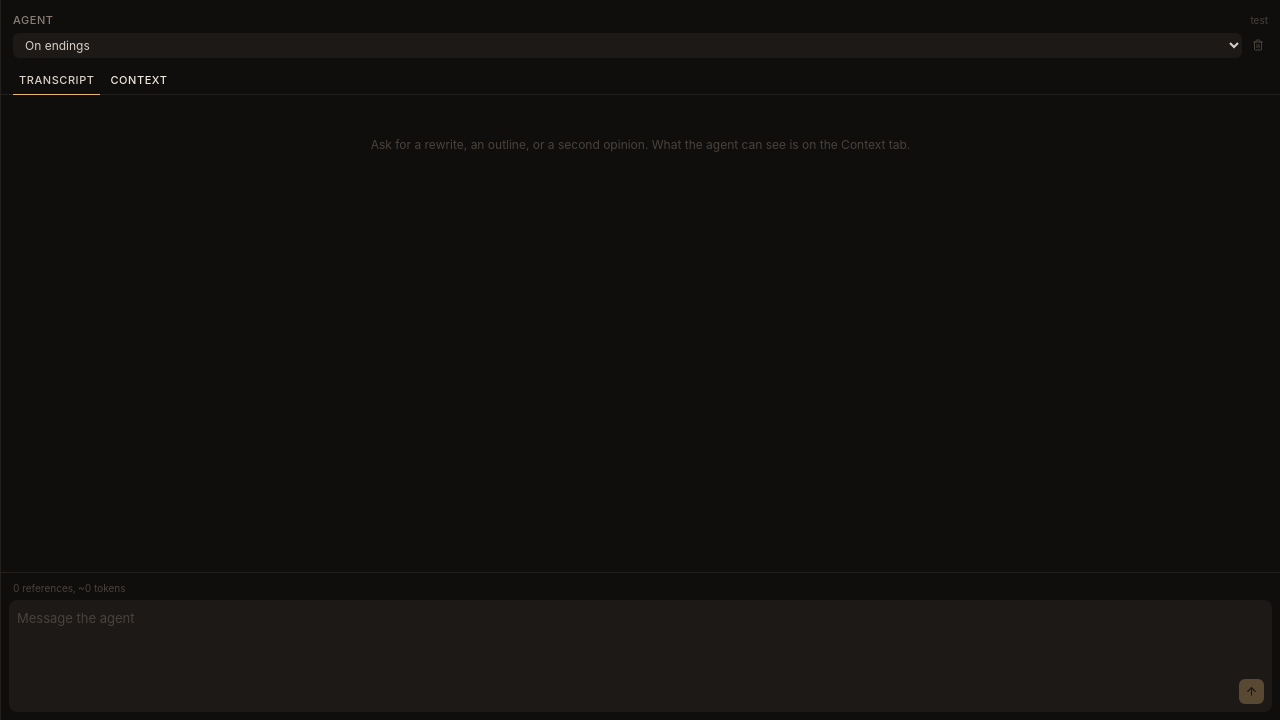
Test: a refused reply › should show the reason and offer nothing to accept
Type "Tighten this" into the text box labelled "Message the agent".
click(624, 656); type("Tighten this")  # box [17,608,1231,704]
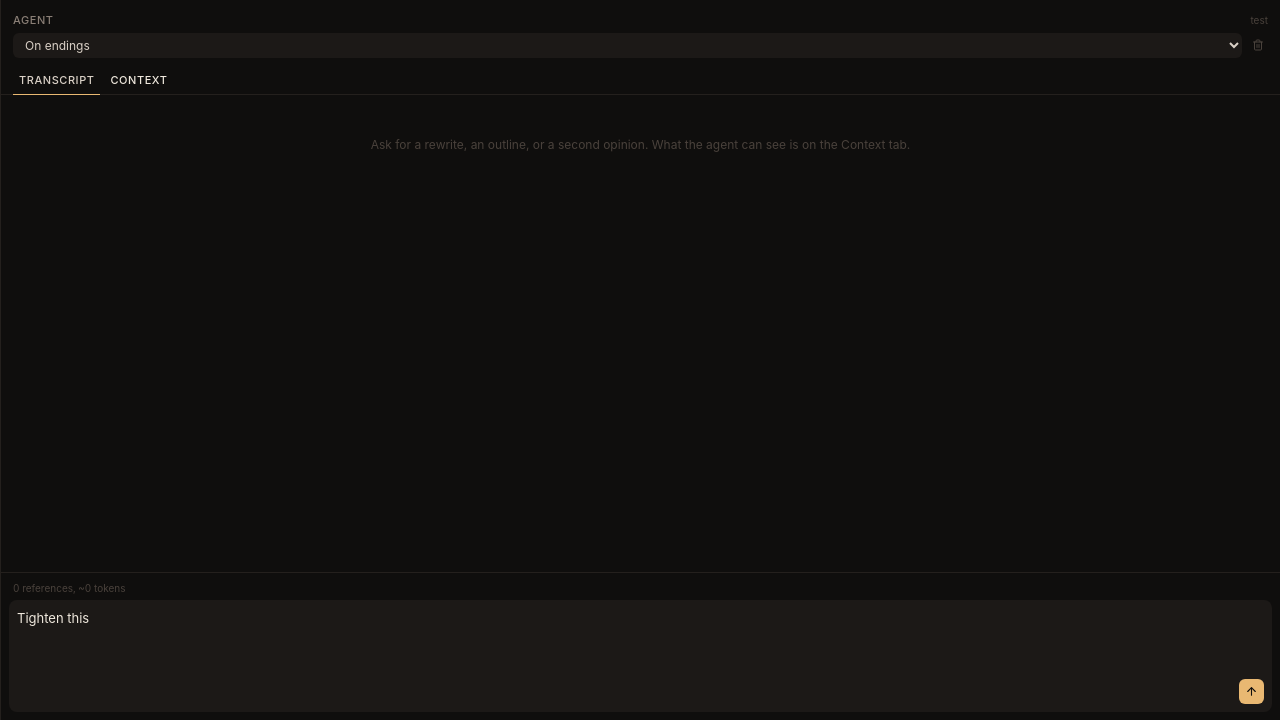
Click the button named "Send message".
click(1252, 692)  # box [1239,679,1264,704]
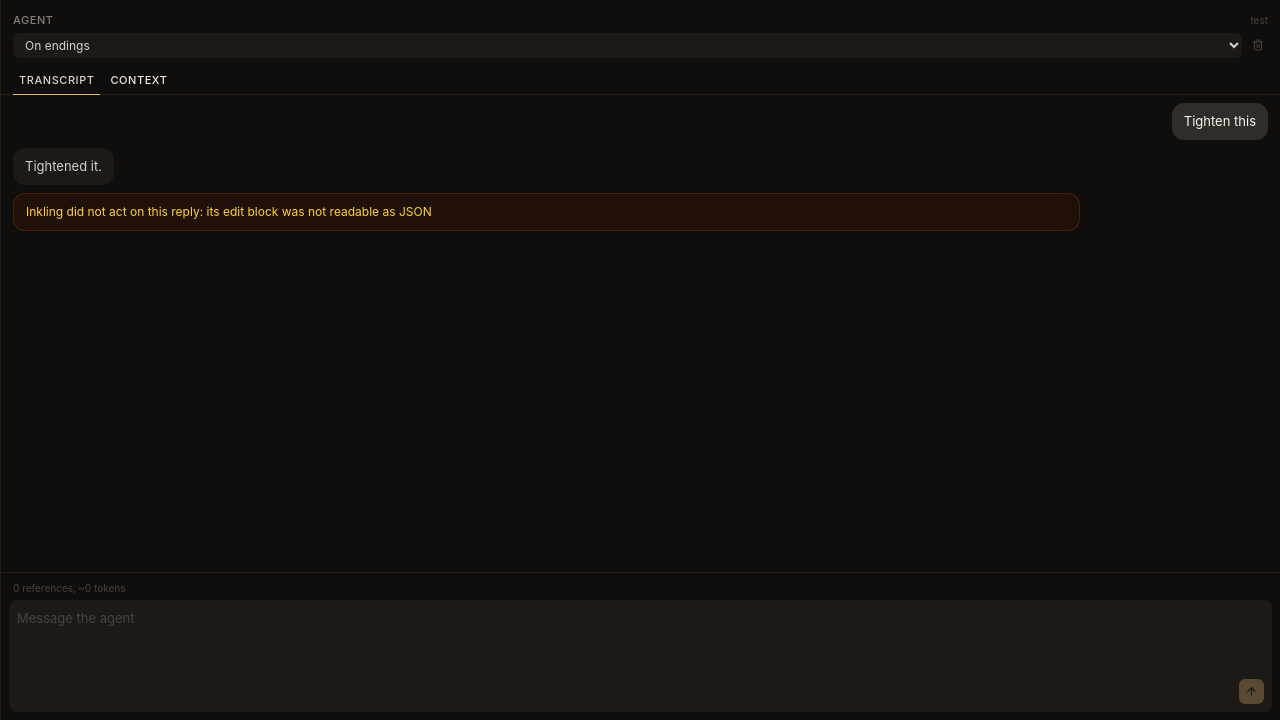
Result: the text "not readable as JSON" is shown at [206,204,432,219]
